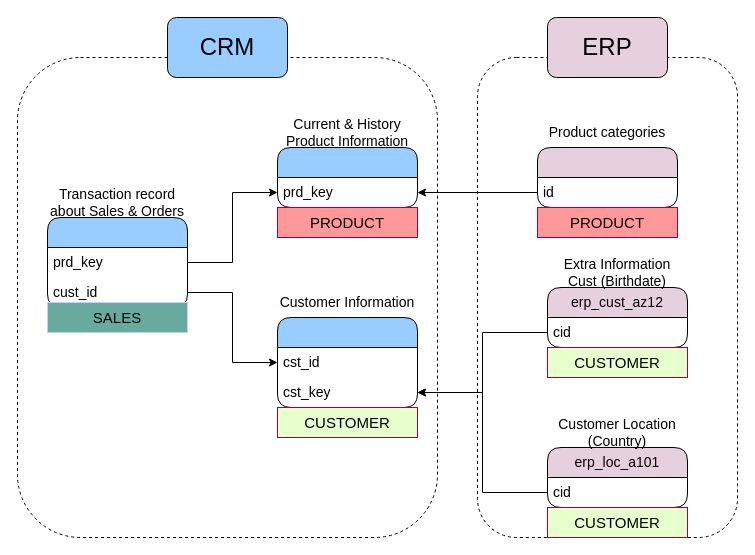
Image size: 755x555. Some labels were removed from this diagram. The box of each missing label's shape, as (x1, y1, x2, y2) in pixels:
crm_cust_info: (276, 316, 418, 408)
crm_prd_info: (276, 146, 418, 208)
crm_sales_details: (46, 216, 188, 308)
erp_ox_cat_g1v2: (536, 146, 678, 208)
